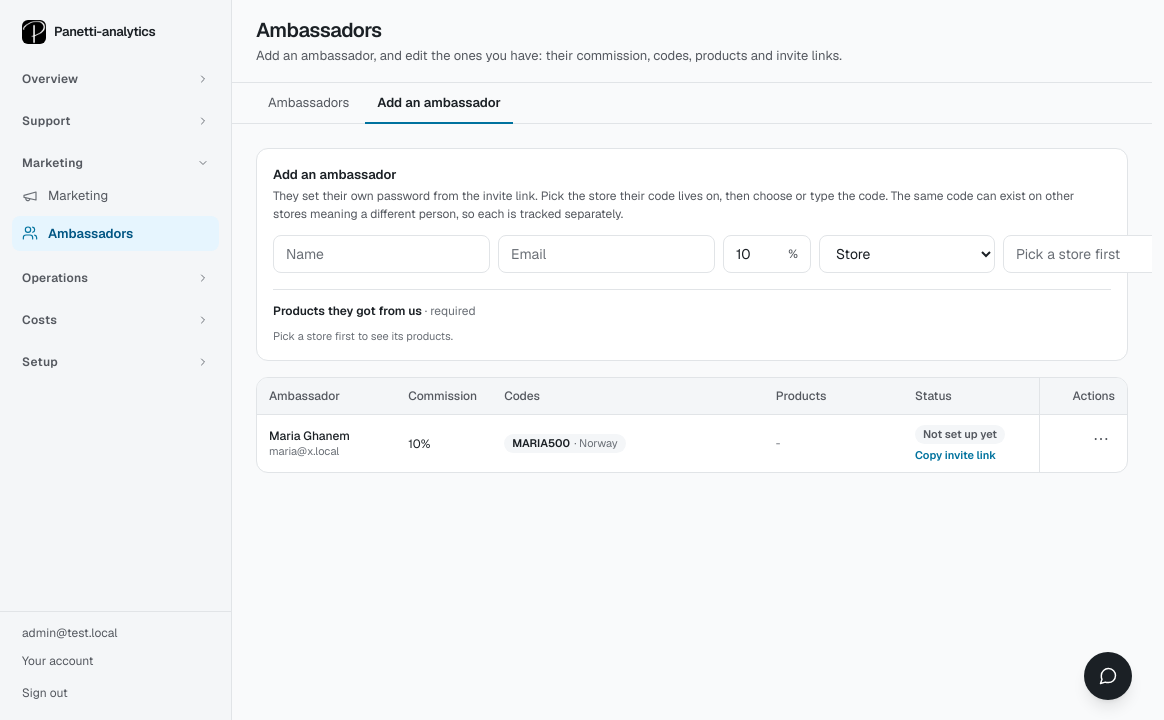
Test: the row menu › closes on Escape without running anything
Check: the text "MARIA500" is shown, box x1=512 y1=436 x2=570 y2=450
Click the button named "Actions for Maria Ghanem". click: (1101, 439)
box: x1=1087 y1=425 x2=1115 y2=453
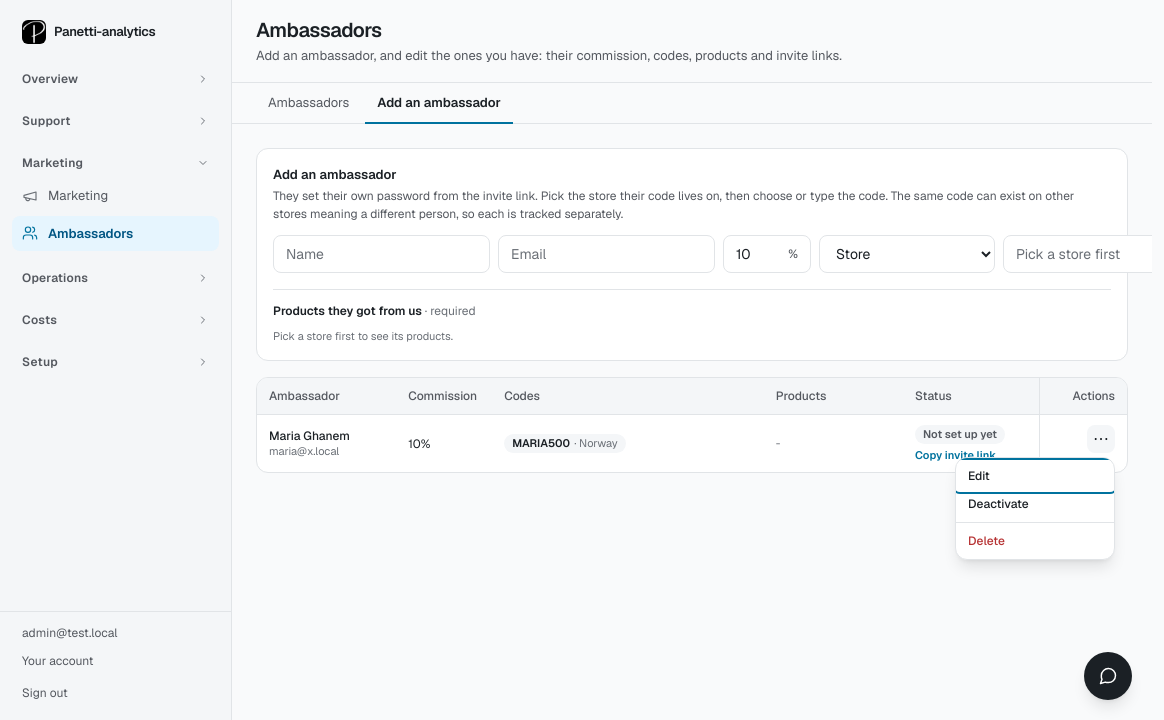
Press Escape
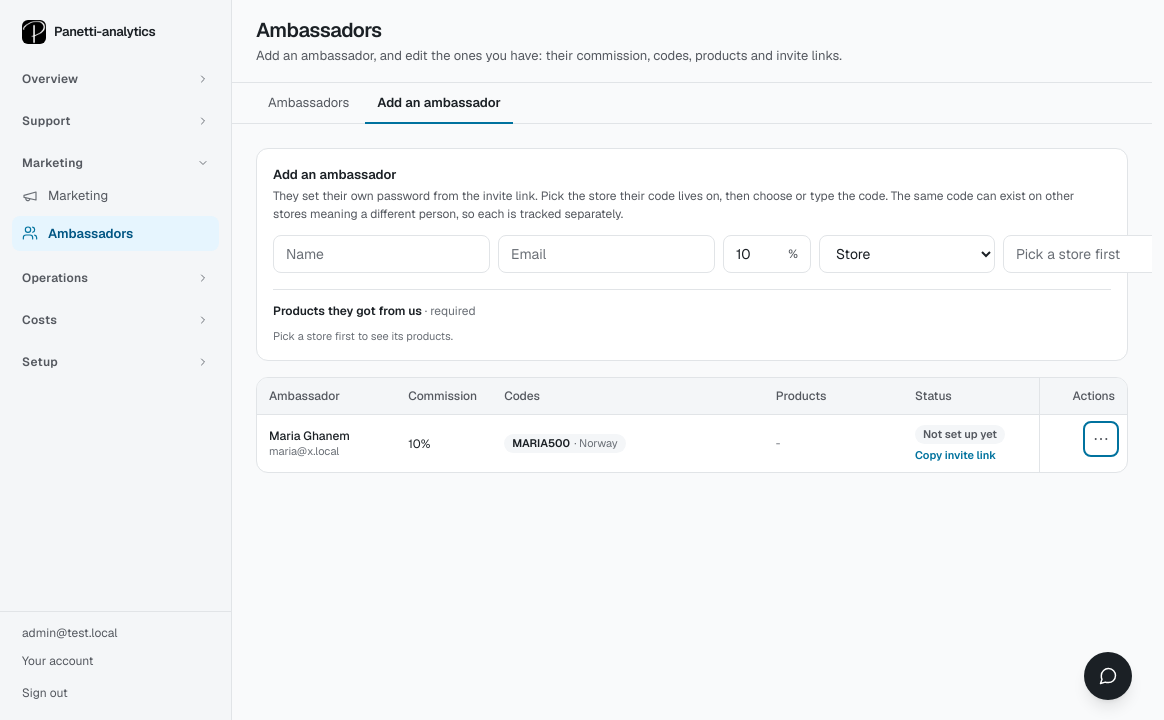
Check: the menu item "Delete" is gone
